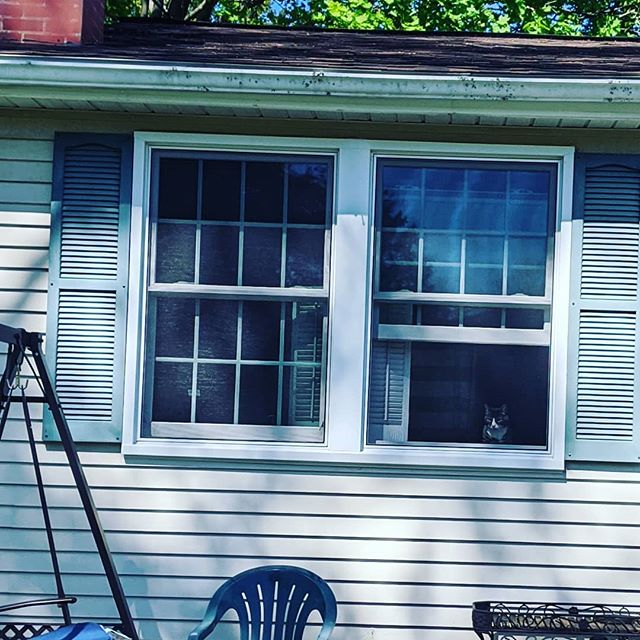animal: (477, 403, 519, 448)
building: (1, 28, 640, 640)
window: (370, 154, 559, 460), (147, 142, 336, 448)
